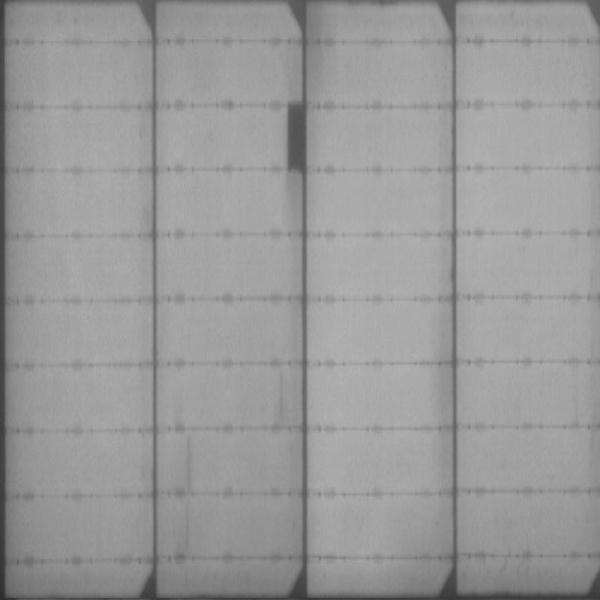black_border: (284, 98, 308, 177)
